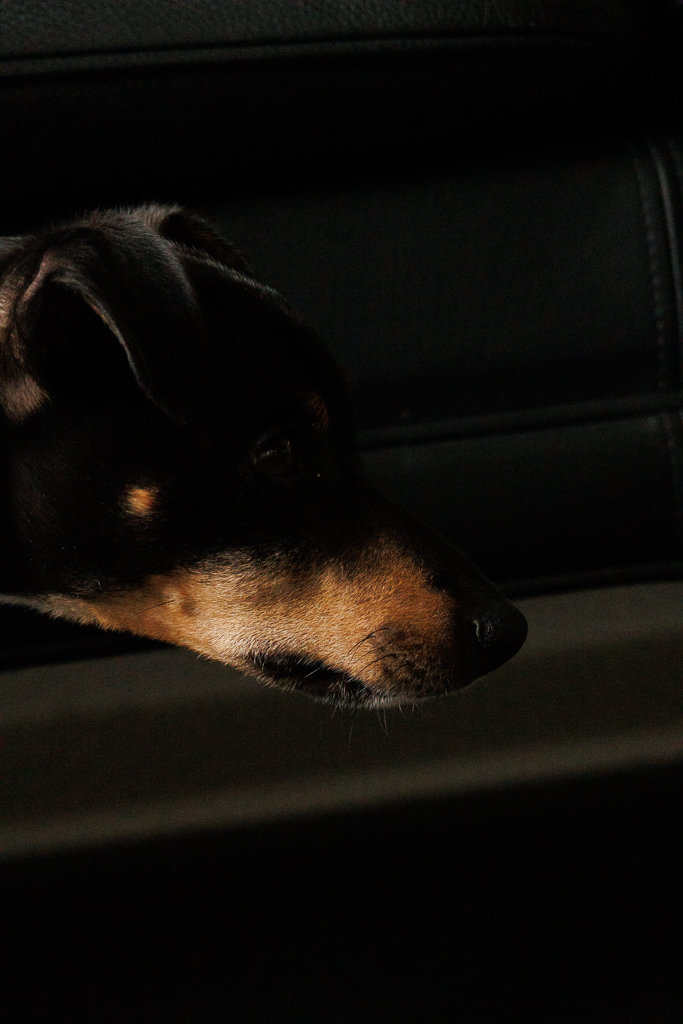Dog: (0, 198, 543, 721)
